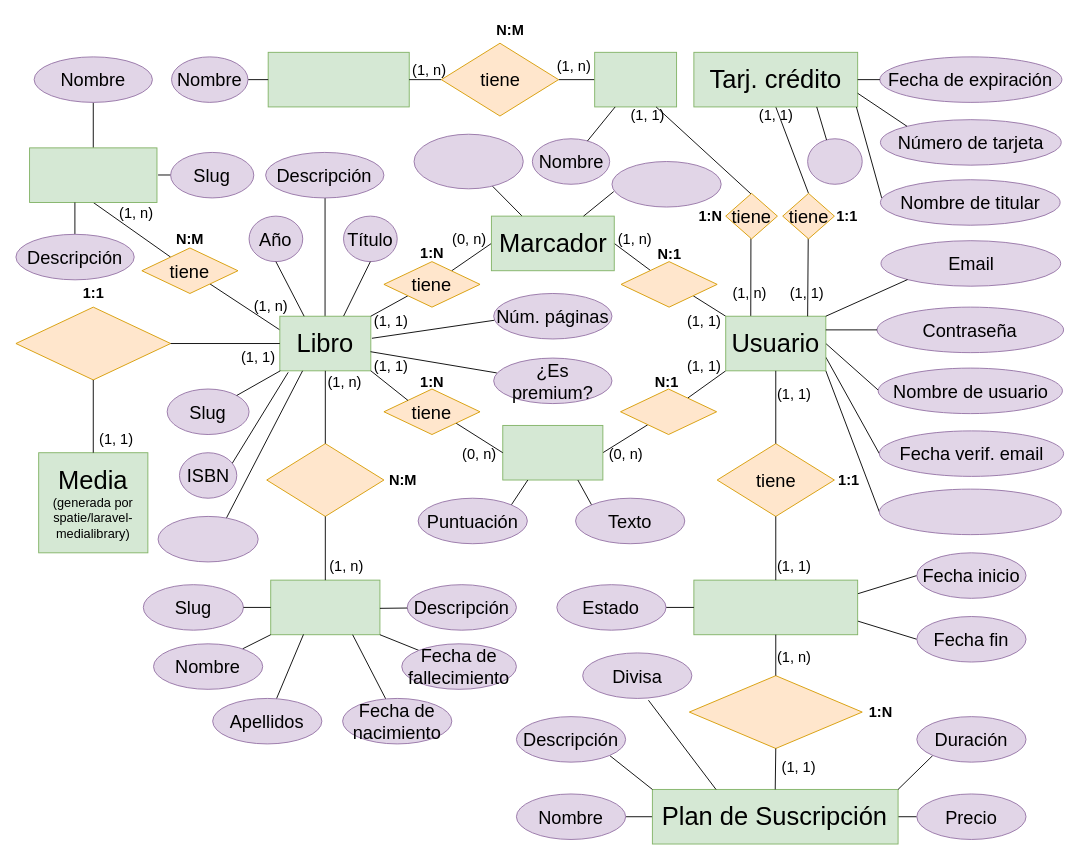
Image size: 1080x860. Some labels were removed from this diagram. The shapes that lost their labels are listed below. From the top down, each one's centre as x and y in pixels, then its label:
[338,79]: Permiso
[635,79]: Rol
[93,174]: Género
[468,161]: Núm. de página
[834,161]: CVC
[666,184]: ¿Es favorito?
[668,284]: usa
[93,343]: almacenado en
[668,411]: escribe
[552,452]: Reseña
[325,479]: escrito por
[969,511]: Token de recuerdo
[207,539]: Idioma
[325,607]: Author
[775,607]: Suscripción
[775,711]: asociado con
